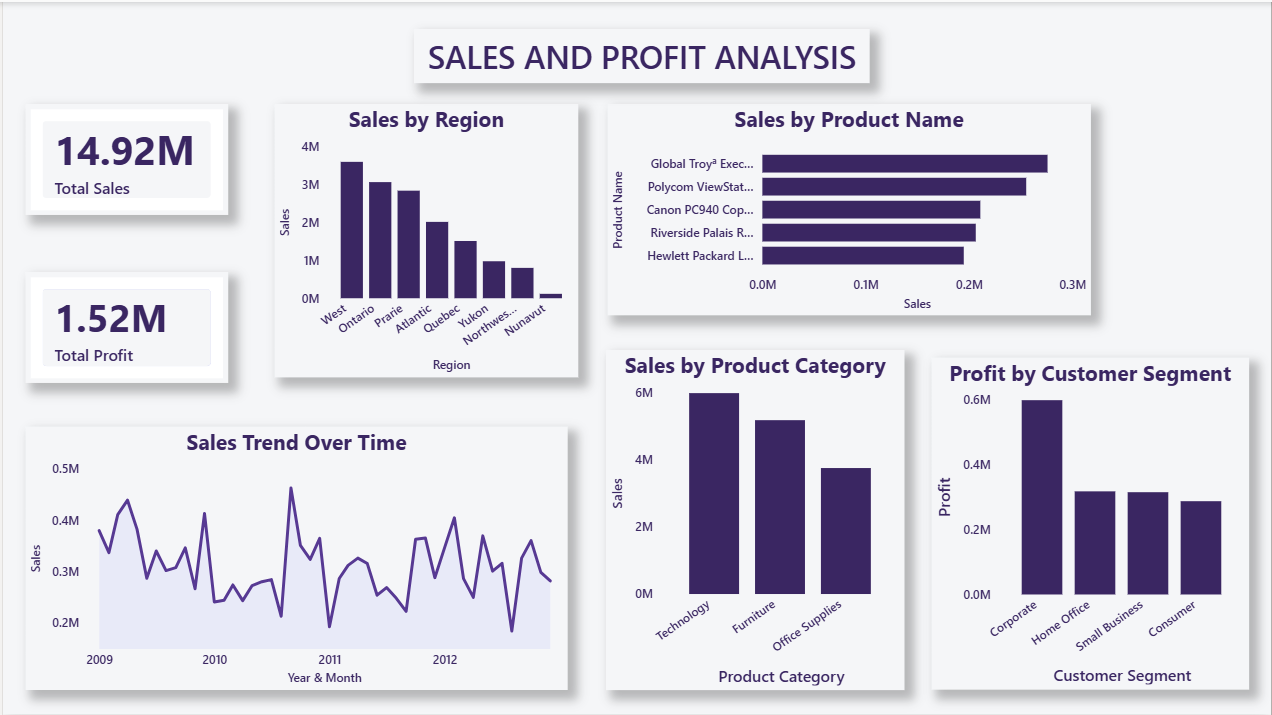

The page's visual inventory and layout, read from the dashboard file:
{"tool":"powerbi","page":{"name":"Page 1","canvas":[1280,720],"ordinal":0},"visuals":[{"type":"cardVisual","fields":{"Data":["Sum(Cleaned Data.Sales)"]},"box":[22.7,103,204.4,112.1],"z":0},{"type":"cardVisual","fields":{"Data":["Sum(Cleaned Data.Profit)"]},"box":[22.7,272.6,204.4,112.1],"z":1000},{"type":"clusteredColumnChart","title":"Sales by Region","fields":{"Category":["Cleaned Data.Region"],"Y":["Sum(Cleaned Data.Sales)"]},"box":[274.4,102.7,306.8,275.8],"z":2000},{"type":"clusteredColumnChart","title":"Sales by Product Category","fields":{"Category":["Cleaned Data.Product Category"],"Y":["Sum(Cleaned Data.Sales)"]},"box":[608.3,351.4,301.4,343.3],"z":3000},{"type":"clusteredColumnChart","title":"Profit by Customer Segment","fields":{"Category":["Cleaned Data.Customer Segment"],"Y":["Sum(Cleaned Data.Profit)"]},"box":[936.7,359.6,320.4,335.2],"z":4000},{"type":"lineChart","title":"Sales Trend Over Time","fields":{"Y":["Sum(Cleaned Data.Sales)"],"Category":["Cleaned Data.Order Date.Variation.Date Hierarchy.Year","Cleaned Data.Order Date.Variation.Date Hierarchy.Month"]},"box":[23,428.5,547.4,266.3],"z":5000},{"type":"clusteredBarChart","title":"Sales by Product Name","fields":{"Category":["Cleaned Data.Product Name"],"Y":["Sum(Cleaned Data.Sales)"]},"box":[609.6,102.7,488,213.6],"z":6000},{"type":"textbox","box":[414.9,27.3,460.3,54.5],"z":7000}]}

Visuals, with their boxes in screenshot pixels (x1, y1, x2, y2), scaled from the page's 1280x720 canvas onto the 1272x715 screenshot:
cardVisual - Sum(Cleaned Data.Sales): 23, 102, 226, 214
cardVisual - Sum(Cleaned Data.Profit): 23, 271, 226, 382
"Sales by Region" clusteredColumnChart: 273, 102, 578, 376
"Sales by Product Category" clusteredColumnChart: 604, 349, 904, 690
"Profit by Customer Segment" clusteredColumnChart: 931, 357, 1249, 690
"Sales Trend Over Time" lineChart: 23, 426, 567, 690
"Sales by Product Name" clusteredBarChart: 606, 102, 1091, 314
textbox: 412, 27, 870, 81
